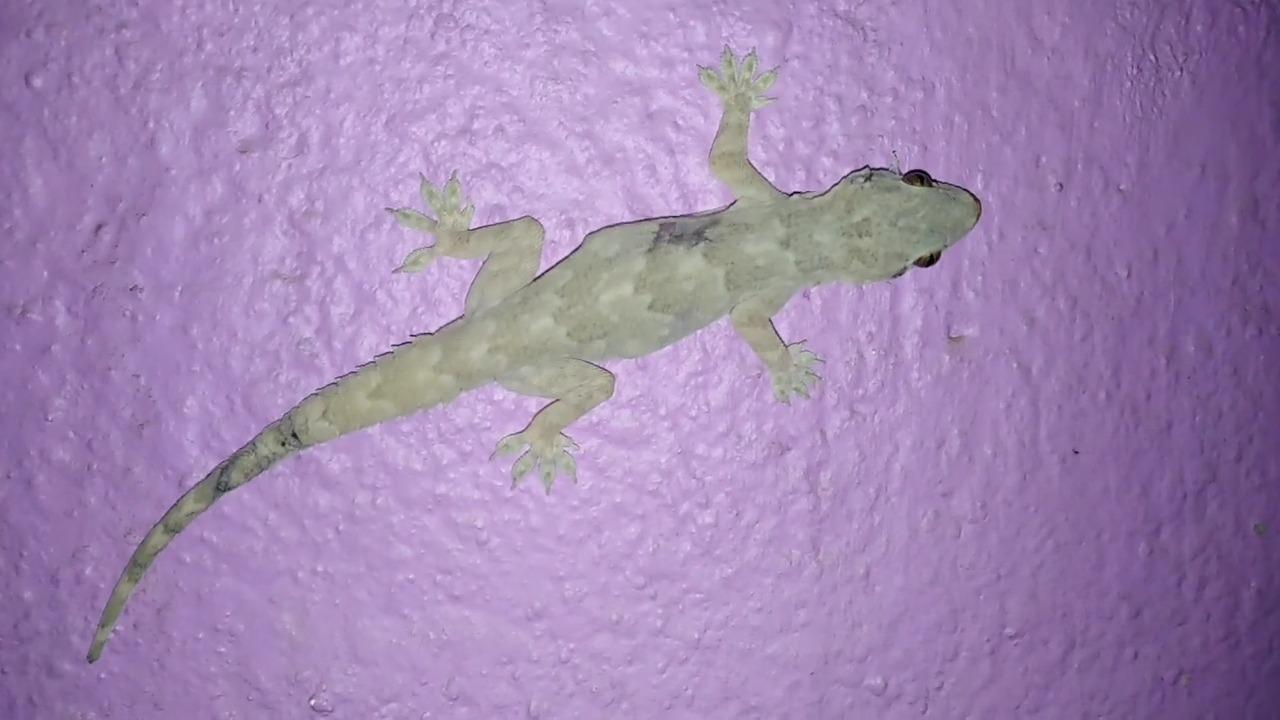lizard: (84, 36, 991, 667)
